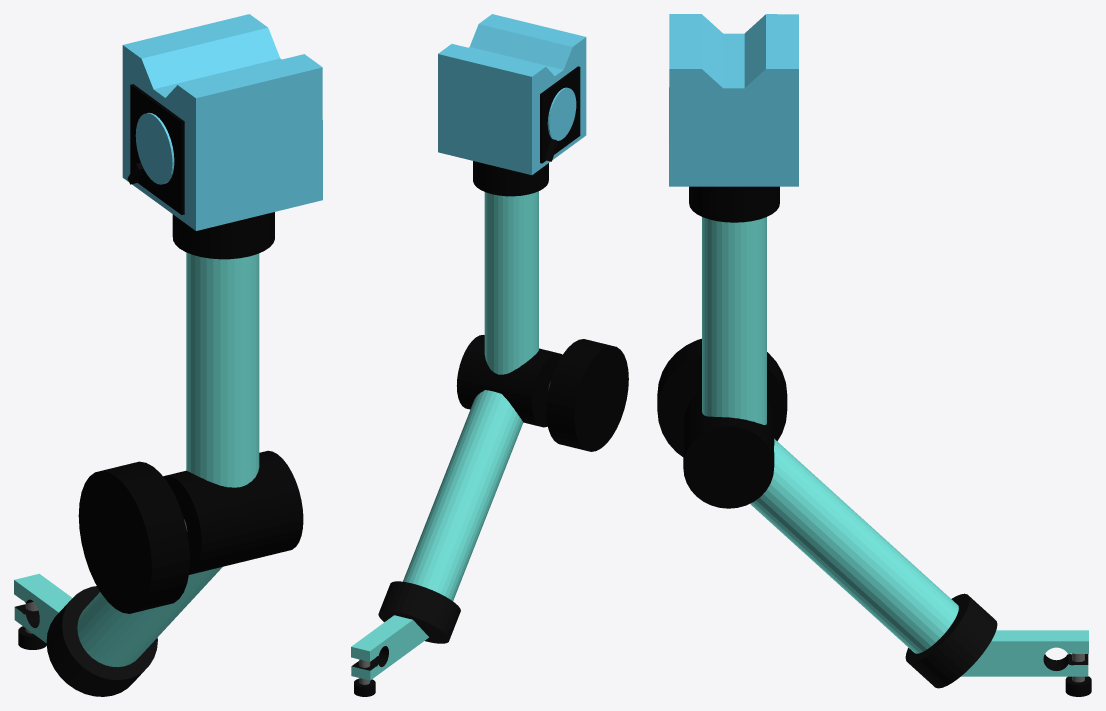
Rendered from 1.Stativ.fbx.
The picture shows the model from 3 angles, left to right: view 1: azimuth 30°, elevation 25°; view 2: azimuth 150°, elevation 25°; view 3: azimuth 270°, elevation 25°; orthographic projection. The views are drawn at different scales.
Parts seen in each view (by area): view 1: Zylinder.016; view 2: Zylinder.016; view 3: Zylinder.016.
Part boxes in pixels (x1,y1,x2,y2): Zylinder.016: [14, 14, 322, 696]; Zylinder.016: [351, 14, 628, 696]; Zylinder.016: [657, 14, 1091, 696].
Bounding box in the file's own units: 280 × 1102 × 669.
